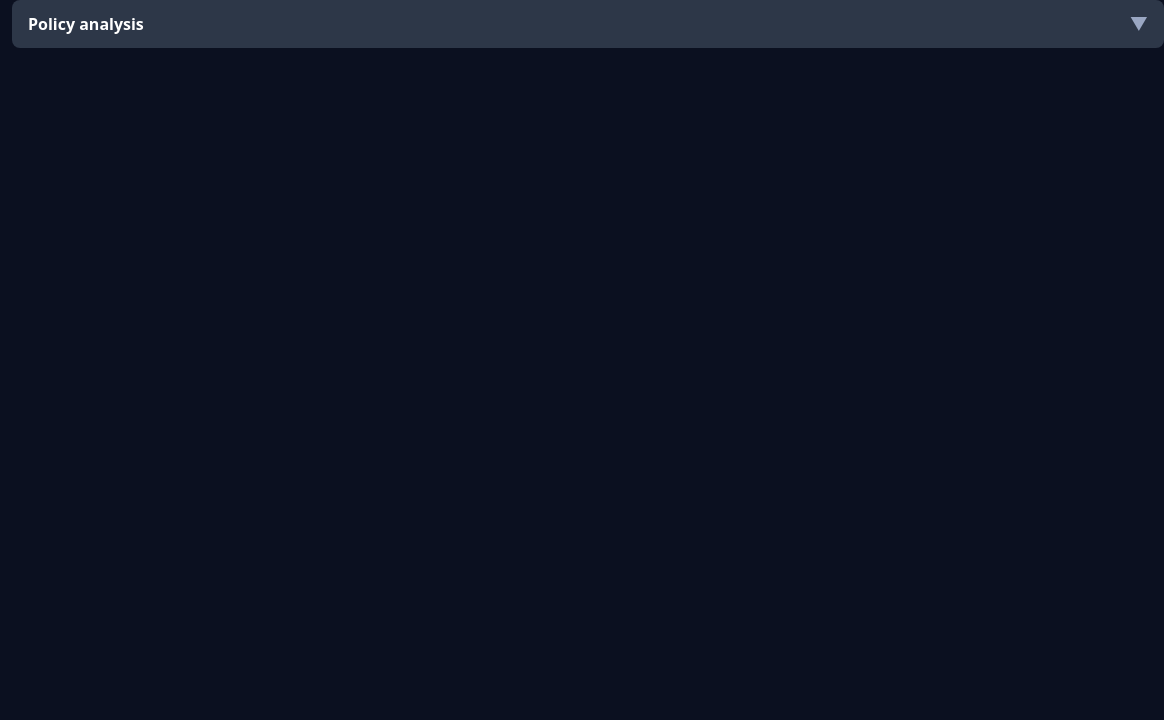
PolicyAnalysis with redaction › masks the Check access resource and caller fields while redacting
Click the heading "Policy analysis" at (86, 24), box [28,13,144,35]
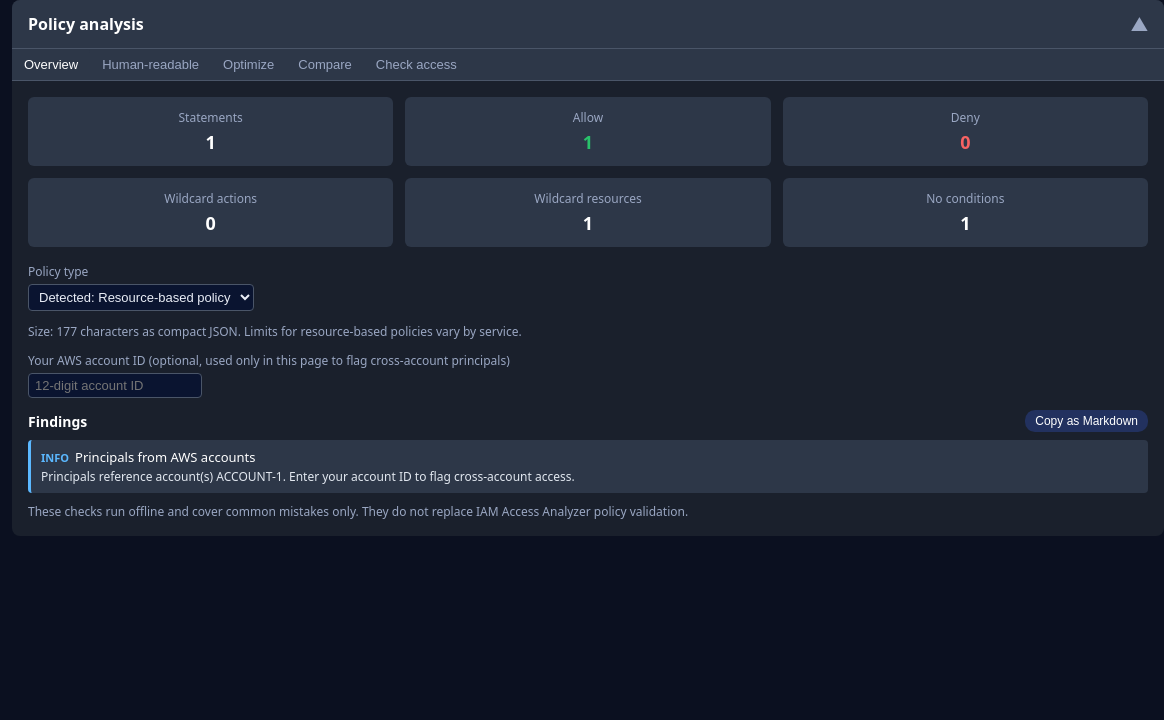
Click the button "Check access" at (416, 64), box [364,49,469,80]
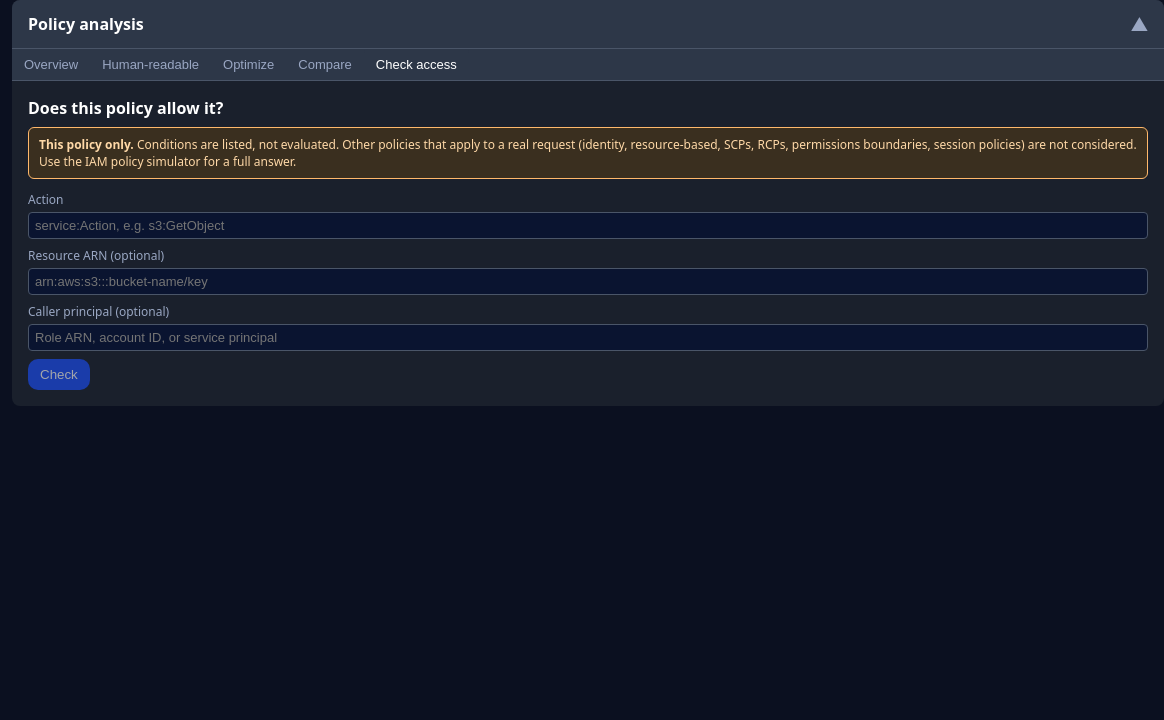
Expected: the password field labelled "Resource ARN (optional)" has attribute autocomplete="new-password", [28,268,1148,295]
Expected: the field labelled "Action" does not have attribute type="password", [28,212,1148,239]
